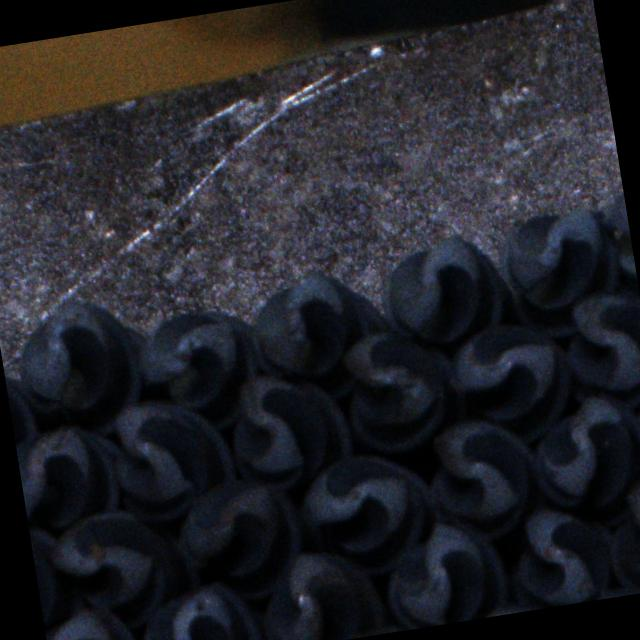tool_b: (242, 264, 402, 409), (9, 291, 157, 447), (293, 444, 439, 583), (102, 388, 241, 528), (44, 502, 186, 638), (338, 316, 474, 458), (170, 471, 310, 608), (132, 302, 268, 442), (444, 314, 580, 454), (220, 362, 356, 498), (494, 202, 626, 342), (373, 228, 516, 357), (523, 389, 640, 535), (418, 412, 544, 546), (376, 510, 511, 632), (15, 418, 136, 532), (499, 497, 616, 613), (253, 542, 388, 640), (555, 283, 640, 419), (136, 574, 266, 640), (597, 475, 640, 597), (43, 600, 146, 640)
